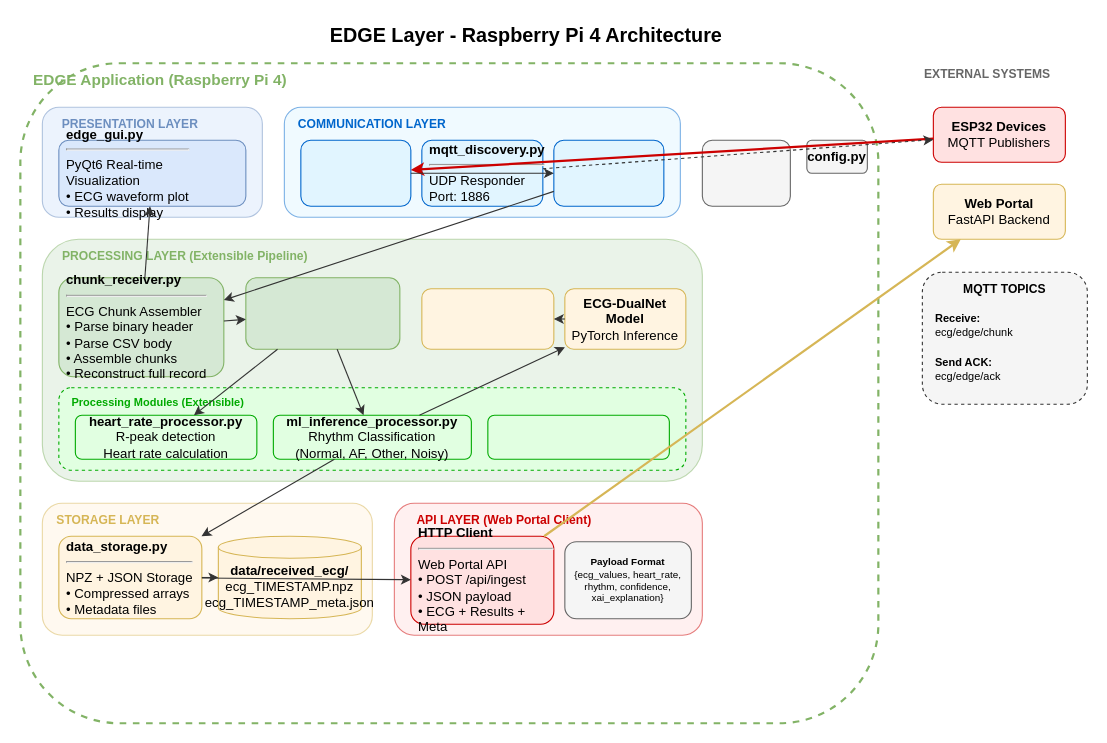
The diagram is 1107 pixels wide and 743 high, and some of its shapes have lost their labels. Here are the shapes that lost their labels. From the top down, the box of each, then its label:
(300, 139, 411, 206): mqtt_broker.py Embedded Broker Port: 1885
(553, 139, 664, 206): mqtt_client.py Client Wrapper
(701, 139, 790, 206): main.py Entry Point
(245, 277, 400, 349): ecg_processor.py Base Processor Class (Abstract Interface)
(421, 288, 554, 349): XAI Explainer Signal Importance Peak Regions
(487, 414, 669, 459): Custom Processors Easily extensible...
